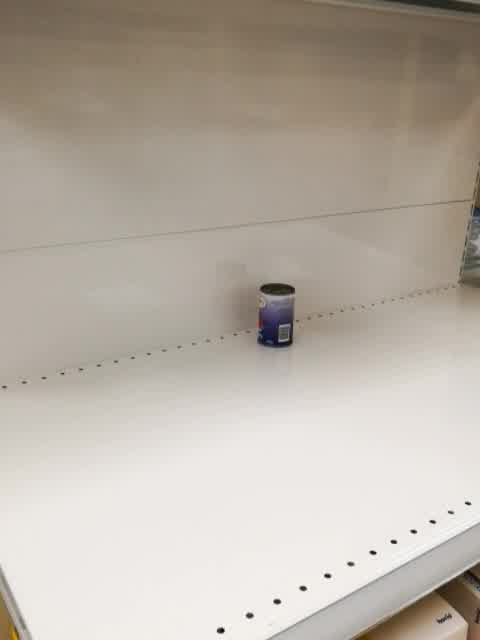sardine: (257, 282, 296, 348)
